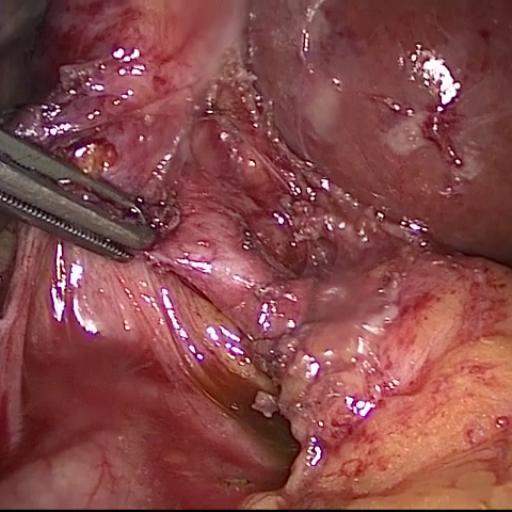Grasper: (0, 104, 174, 306)
